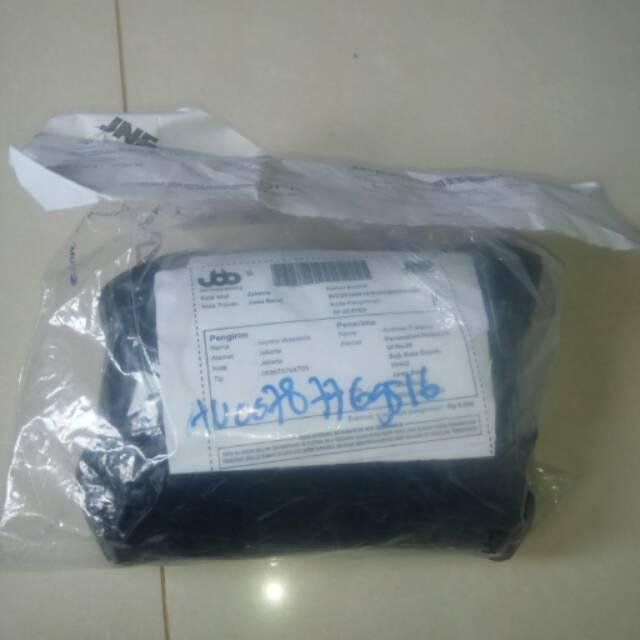undamaged: (2, 106, 635, 582)
